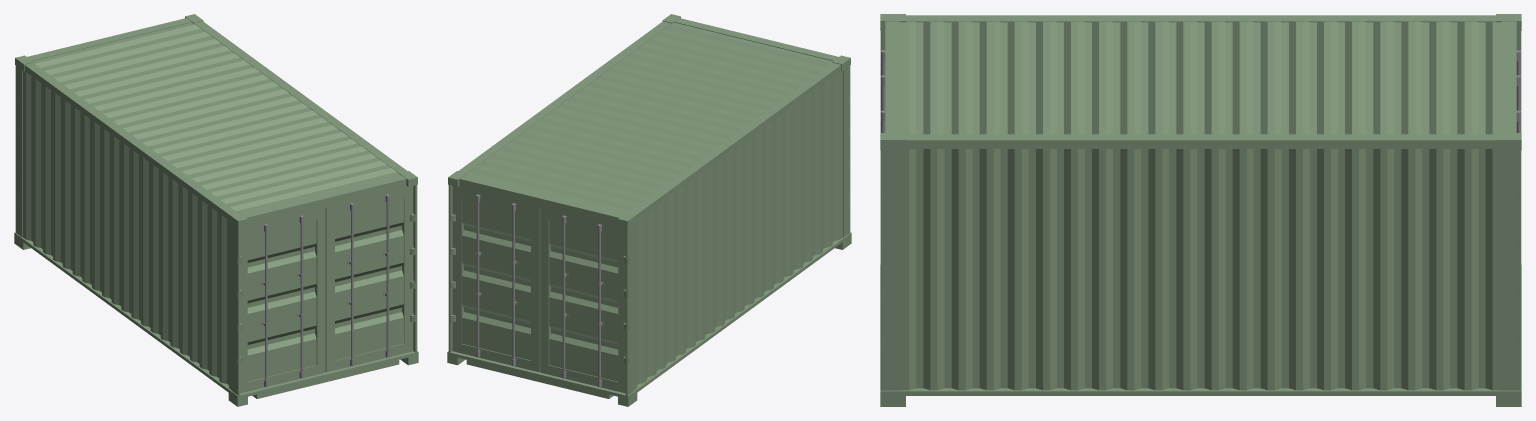
Rendered from Container1.fbx.
The picture shows the model from 3 angles, left to right: view 1: azimuth 30°, elevation 25°; view 2: azimuth 150°, elevation 25°; view 3: azimuth 270°, elevation 25°; orthographic projection. The views are drawn at different scales.
Visible parts, largest first — view 1: Container1, Container1_Door1, Container1_Door2, Container1_Support1, Container1_Support2, Container1_Floor, Container1_CrainHookHandle; view 2: Container1, Container1_Door4, Container1_Door3, Container1_Support1, Container1_Support2, Container1_Floor, Container1_CrainHookHandle; view 3: Container1, Container1_Support1, Container1_Support2, Container1_Floor, Container1_CrainHookHandle.
Part boxes in pixels (x1,y1,x2,y2): Container1: [23, 22, 399, 389]; Container1_Door1: [325, 186, 417, 372]; Container1_Door2: [237, 208, 325, 393]; Container1_Support1: [15, 18, 417, 395]; Container1_Support2: [24, 21, 407, 220]; Container1_Floor: [14, 232, 418, 398]; Container1_CrainHookHandle: [14, 14, 418, 406]; Container1: [466, 22, 842, 389]; Container1_Door4: [448, 186, 540, 372]; Container1_Door3: [540, 208, 628, 393]; Container1_Support1: [448, 18, 850, 395]; Container1_Support2: [458, 21, 841, 220]; Container1_Floor: [447, 232, 851, 398]; Container1_CrainHookHandle: [447, 14, 851, 406]; Container1: [900, 21, 1501, 390]; Container1_Support1: [880, 21, 1521, 390]; Container1_Support2: [906, 15, 1495, 148]; Container1_Floor: [880, 265, 1521, 395]; Container1_CrainHookHandle: [880, 14, 1521, 406].
Size of what is drawn, in the model's own units: 610 by 598 by 1304.
